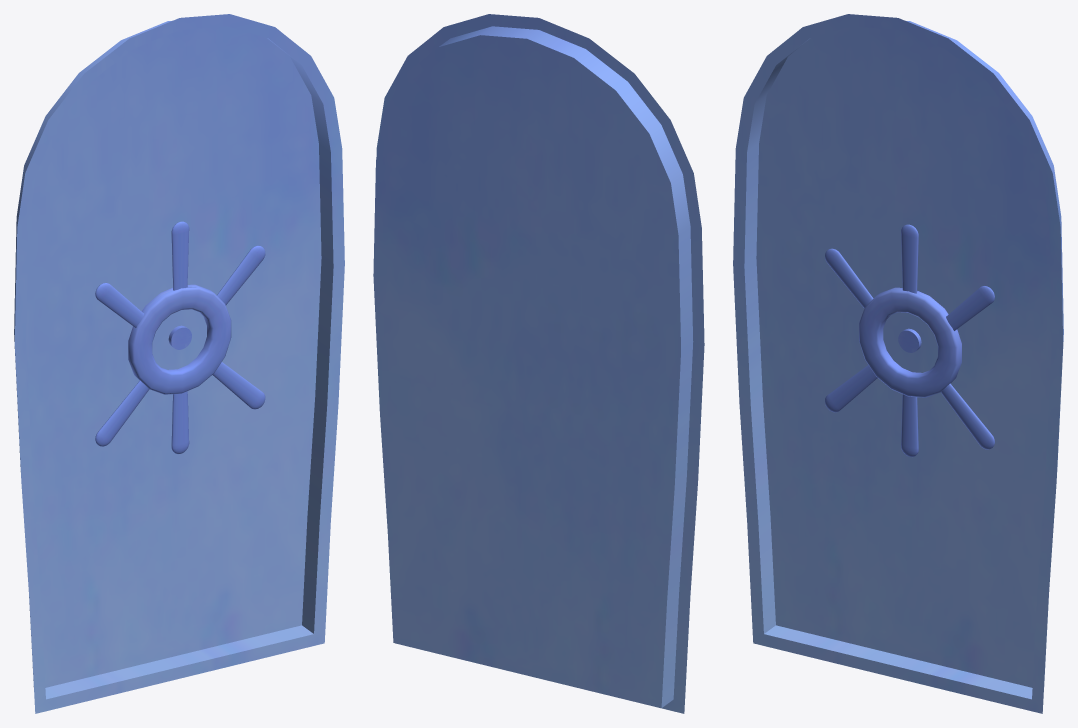
The model's file is puertaCuarto1.obj.
The picture shows the model from 3 angles, left to right: view 1: azimuth 30°, elevation 25°; view 2: azimuth 150°, elevation 25°; view 3: azimuth 330°, elevation 25°; orthographic projection.
Visible parts, largest first — view 1: pasted__pasted__pasted__polySurface18 pasted__group10 group1; view 2: pasted__pasted__pasted__polySurface18 pasted__group10 group1; view 3: pasted__pasted__pasted__polySurface18 pasted__group10 group1.
Boxes of the visible parts, bbox=[...] form: pasted__pasted__pasted__polySurface18 pasted__group10 group1: bbox=[14, 14, 344, 713]; pasted__pasted__pasted__polySurface18 pasted__group10 group1: bbox=[373, 14, 704, 713]; pasted__pasted__pasted__polySurface18 pasted__group10 group1: bbox=[733, 14, 1063, 713].
Bounding box in the file's own units: 1.78 × 3.4 × 0.1156.
